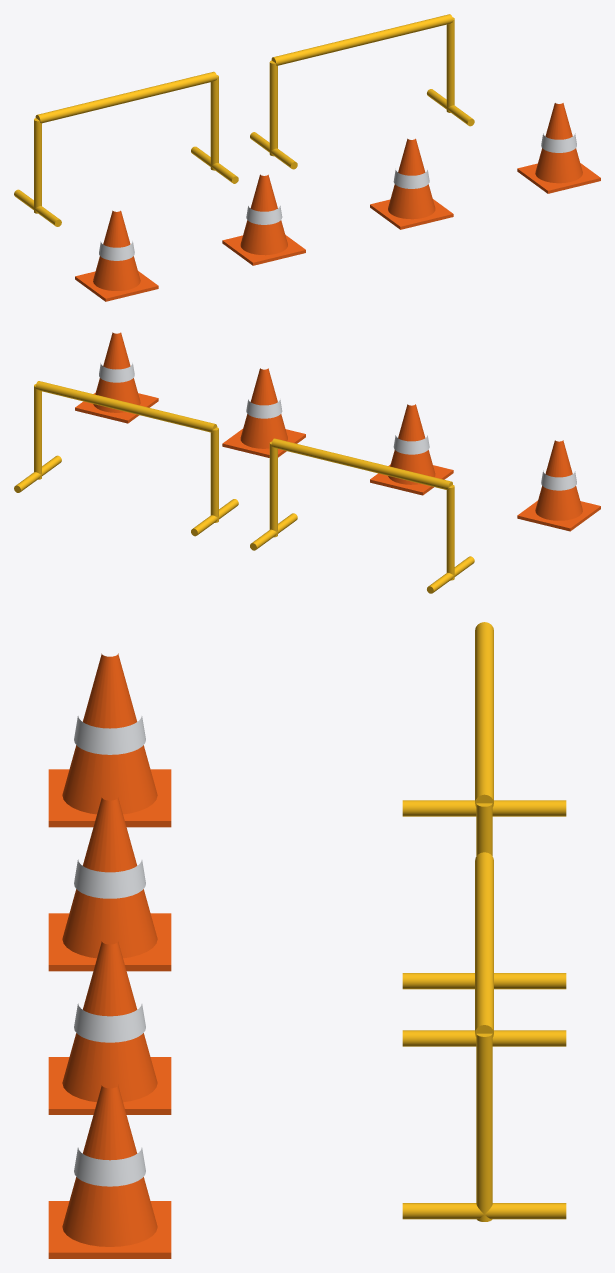
The model's file is sch-034.glb.
3 renders of one model, top to bottom at view 1: azimuth 30°, elevation 25°; view 2: azimuth 150°, elevation 25°; view 3: azimuth 270°, elevation 25°, orthographic. The views are drawn at different scales.
Parts seen in each view (by area): view 1: rim_orange, safety_yellow, white; view 2: rim_orange, safety_yellow, white; view 3: rim_orange, safety_yellow, white.
Boxes of the visible parts, box(x1,y1,x2,y2) form: rim_orange: box(75, 103, 600, 301); safety_yellow: box(14, 14, 474, 226); white: box(99, 133, 576, 260); rim_orange: box(75, 332, 600, 531); safety_yellow: box(14, 381, 474, 593); white: box(99, 363, 576, 490); rim_orange: box(48, 653, 171, 1258); safety_yellow: box(402, 622, 566, 1221); white: box(74, 716, 145, 1186).
Bounding box in the file's own units: 1.68 × 0.314 × 0.76.
